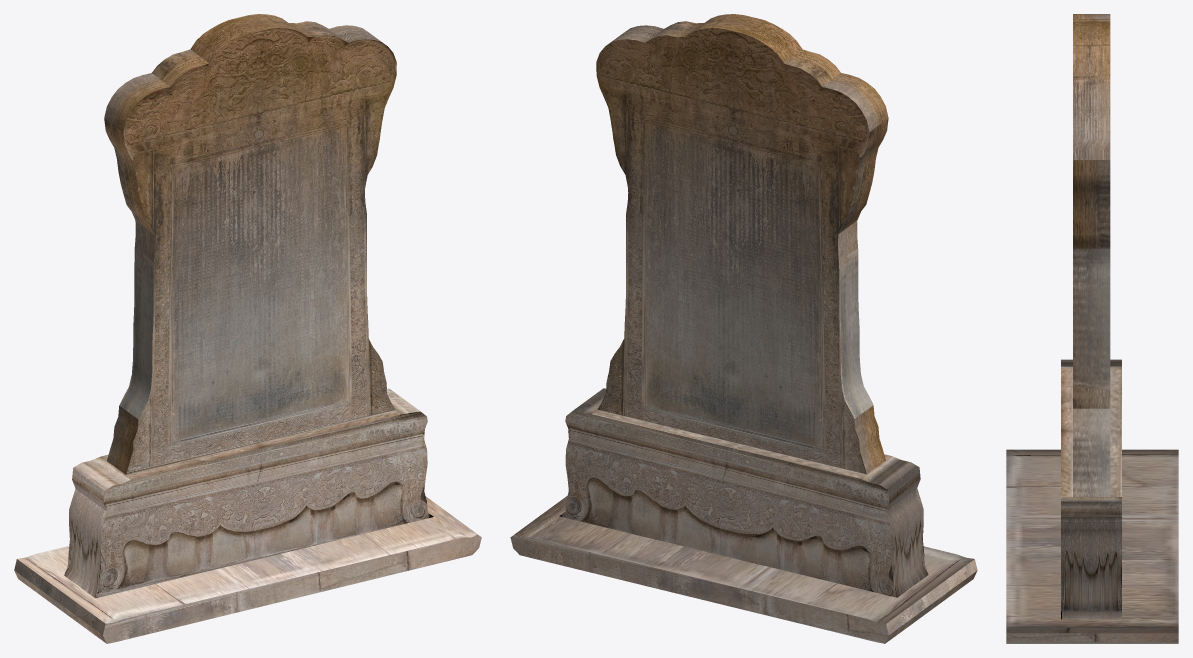
The model's file is Khiem_Cung_Ky_Stele.glb.
3 renders of one model, left to right at view 1: azimuth 30°, elevation 25°; view 2: azimuth 150°, elevation 25°; view 3: azimuth 270°, elevation 25°, orthographic. The views are drawn at different scales.
Visible parts, largest first — view 1: Plane.003; view 2: Plane.003; view 3: Plane.003.
Boxes of the visible parts, x1,y1,x2,y2 form: Plane.003: (14,14,481,643); Plane.003: (510,14,977,643); Plane.003: (1006,14,1178,643).
Bounding box in the file's own units: 7.88 × 10.77 × 3.19.
3 materials, 3 textured.
